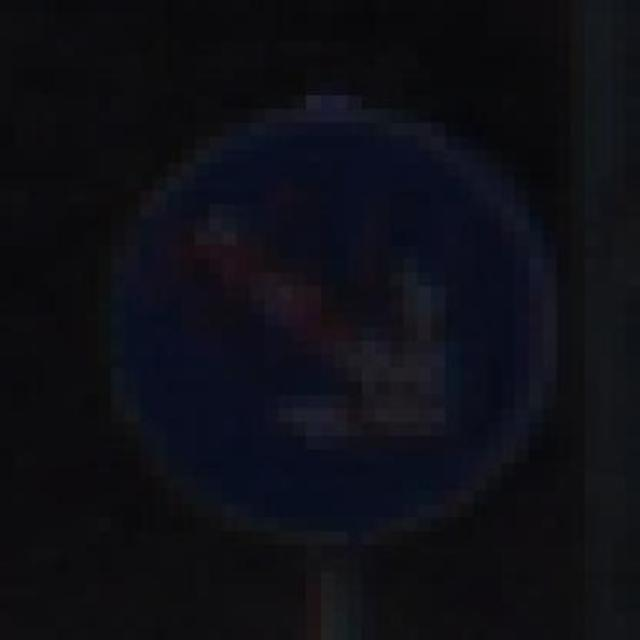Keep-Right: (69, 68, 571, 586)
